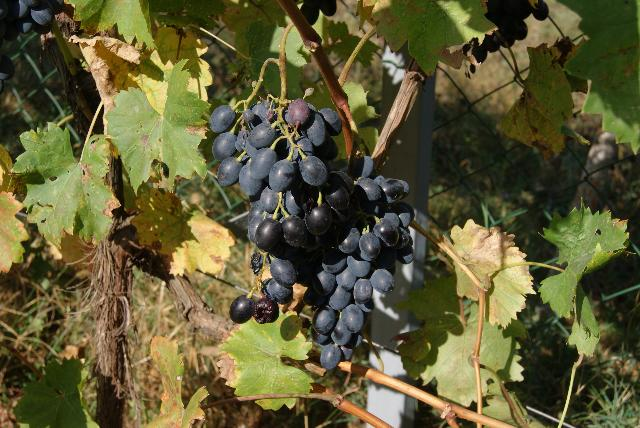grapes: (210, 40, 340, 324), (304, 156, 414, 369)
